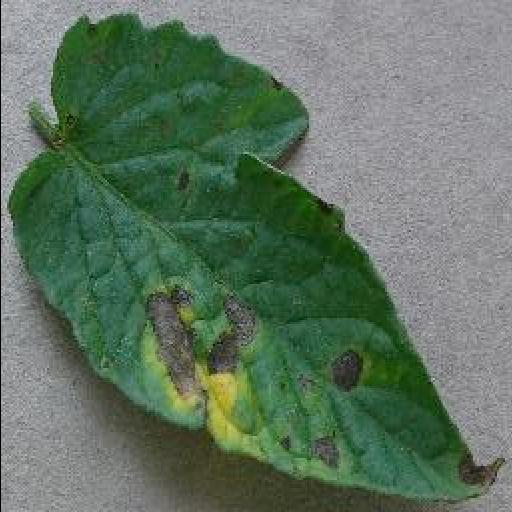disease_tomato: (2, 11, 506, 504)
